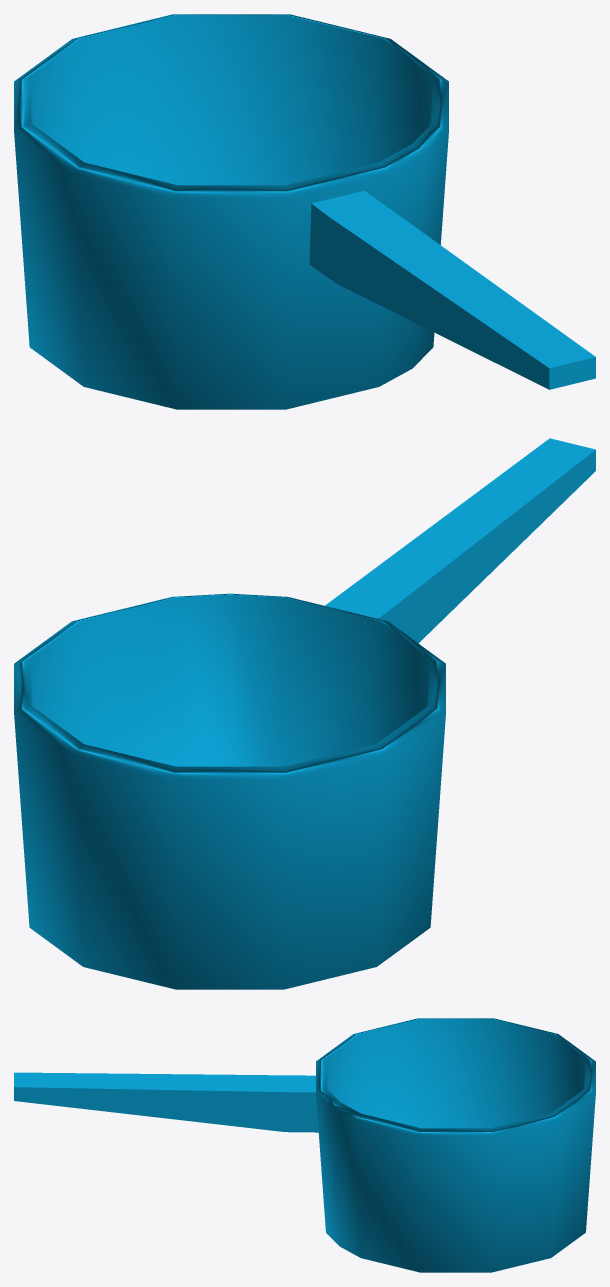
File: Pan_01_Lod2.fbx
3 renders of one model, top to bottom at view 1: azimuth 30°, elevation 25°; view 2: azimuth 150°, elevation 25°; view 3: azimuth 270°, elevation 25°, orthographic. The views are drawn at different scales.
Visible parts, largest first — view 1: Pan_01_Lod2; view 2: Pan_01_Lod2; view 3: Pan_01_Lod2.
Boxes of the visible parts, box(x1,y1,x2,y2) form: Pan_01_Lod2: box(14, 14, 595, 409); Pan_01_Lod2: box(14, 438, 595, 989); Pan_01_Lod2: box(14, 1018, 595, 1272).
Size of the model in its own units: 28.51 by 16.41 by 59.24.
